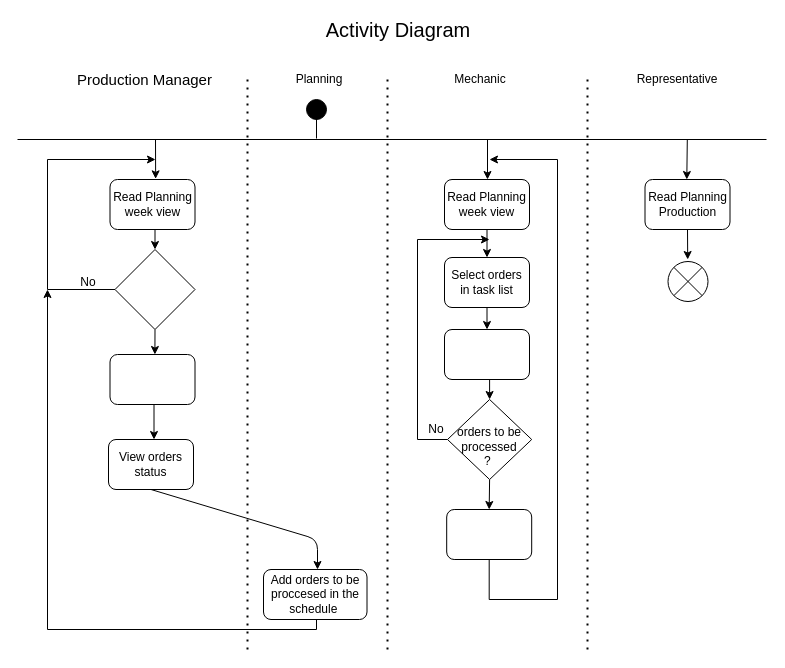
The diagram is 785 pixels wide and 668 high, and some of its shapes have lost their labels. The box of each missing label's shape, as (x1, y1, x2, y2) in pixels:
Define or read orders status: (444, 328, 530, 380)
Edit ?: (114, 248, 195, 330)
Order processed: (446, 508, 532, 560)
Read Planning manager: (109, 354, 195, 404)
